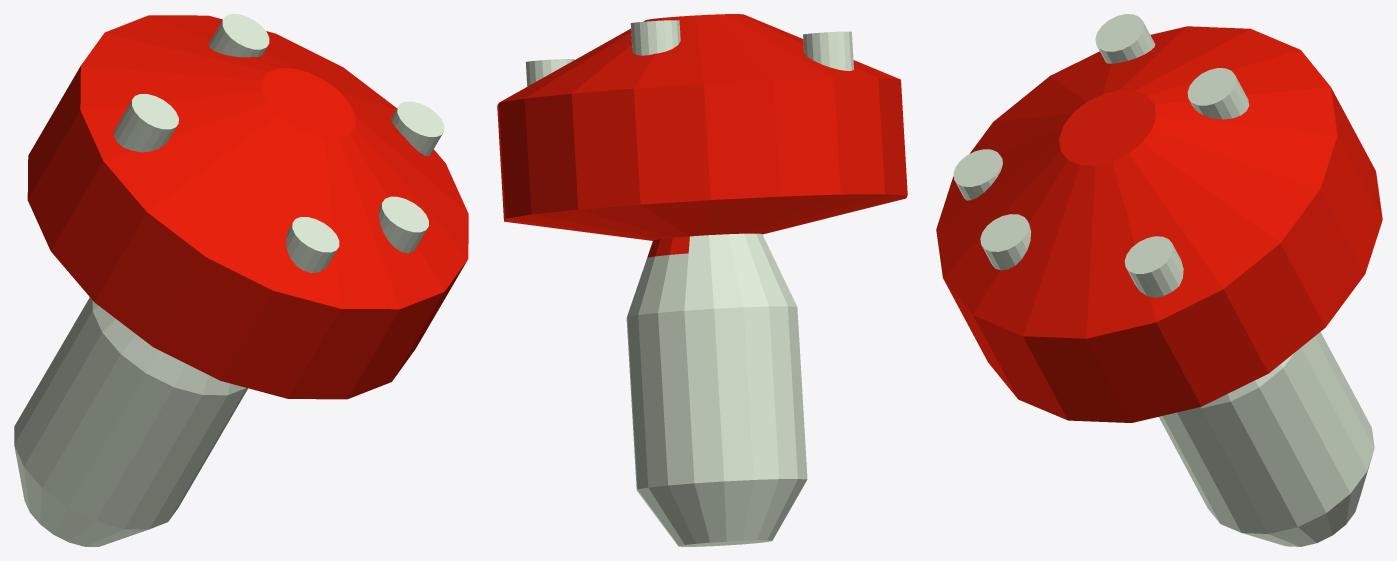
The model's file is meowverse_mush1.glb.
The picture shows the model from 3 angles, left to right: view 1: azimuth 30°, elevation 25°; view 2: azimuth 150°, elevation 25°; view 3: azimuth 270°, elevation 25°; orthographic projection. The views are drawn at different scales.
Parts seen in each view (by area): view 1: Mushroom.003; view 2: Mushroom.003; view 3: Mushroom.003.
Part boxes in pixels (x1,y1,x2,y2): Mushroom.003: (14, 14, 468, 546); Mushroom.003: (497, 14, 907, 546); Mushroom.003: (936, 14, 1382, 546).
Size of the model in its own units: 0.4264 by 0.5401 by 0.4232.
